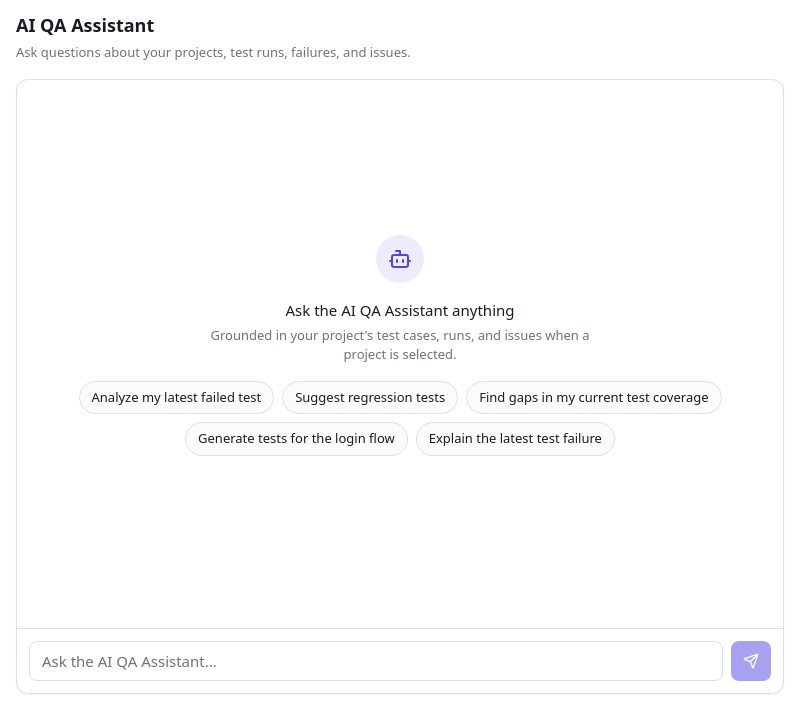
Test case: AssistantPage › shows an inline error with retry when the request fails, without losing the sent message
Step 1. Type "will this fail?" into the field named "Message" → (376, 661), box left=29, top=640, right=723, bottom=681
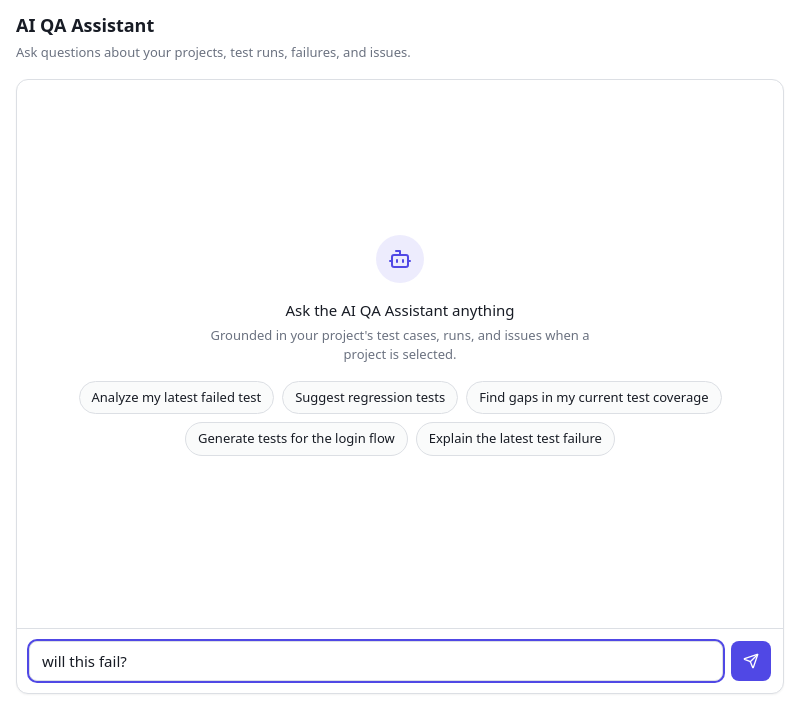
Step 2. Click the button named "Send message" → (751, 661), box left=731, top=641, right=771, bottom=681
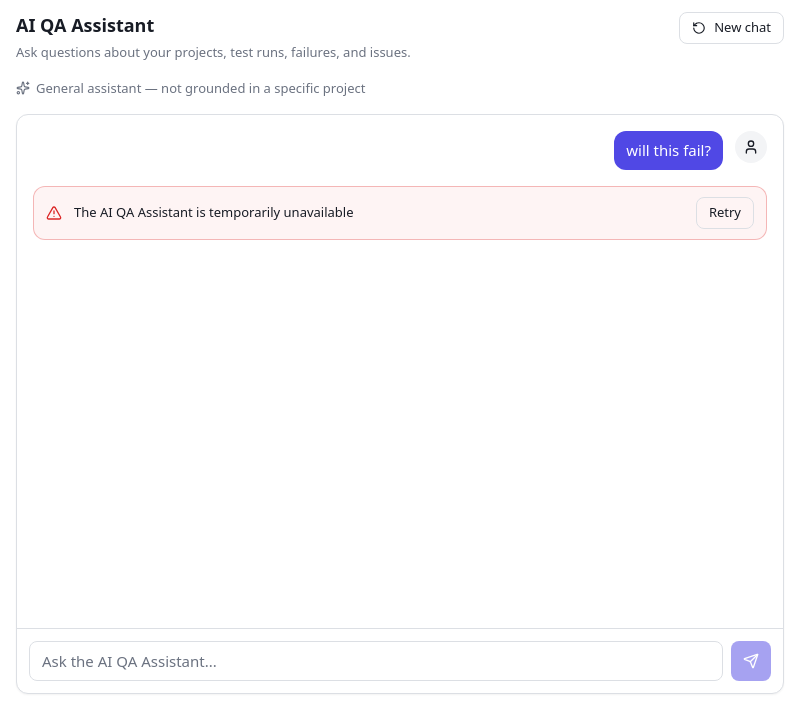
Expected: the text "will this fail?" is shown, left=626, top=139, right=711, bottom=162
Expected: the text "The AI QA Assistant is temporarily unavailable" is shown, left=74, top=203, right=354, bottom=221
Expected: the button "Retry" is shown, left=696, top=196, right=754, bottom=228
